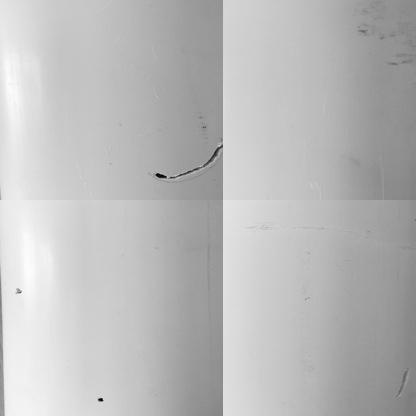fengxi: (148, 143, 227, 185)
kongdong: (16, 285, 22, 294), (97, 396, 103, 403)
sunshang: (392, 366, 412, 399)
